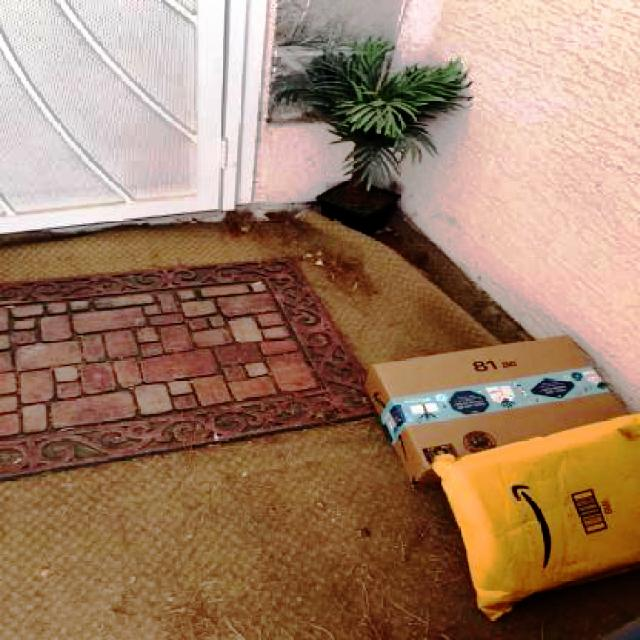Box: (432, 414, 639, 621), (363, 334, 631, 488)
